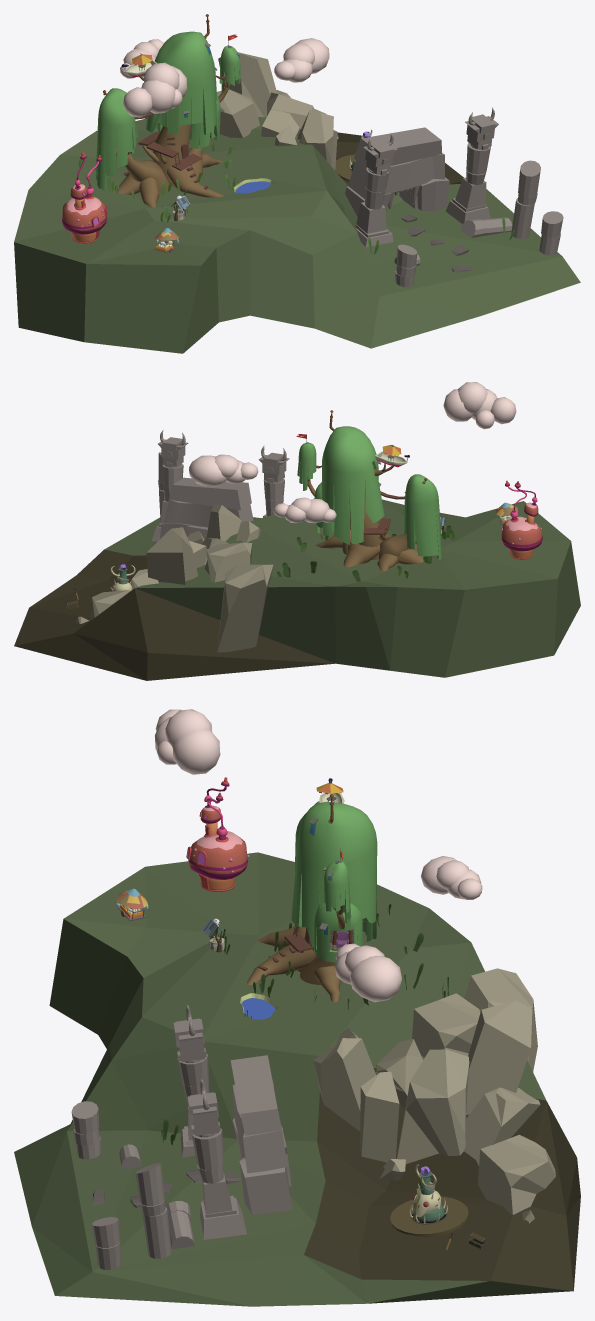
File: scenario.fbx
3 renders of one model, top to bottom at view 1: azimuth 30°, elevation 25°; view 2: azimuth 150°, elevation 25°; view 3: azimuth 270°, elevation 25°, orthographic. The views are drawn at different scales.
Visible parts, largest first — view 1: Plane.004, Cube, Cube.002, Cube.008, Icosphere.003, CANDY_H, plants, Cube.011, idol; view 2: Plane.004, Cube.002, Cube.008, Cube, Icosphere.003, CANDY_H, plants, idol; view 3: Plane.004, Cube.008, Cube, Cube.002, Icosphere.003, CANDY_H, idol, plants, Cylinder.002.
Part boxes in pixels (x1,y1,x2,y2): Plane.004: [14, 117, 580, 353]; Cube: [345, 107, 563, 287]; Cube.002: [95, 14, 240, 207]; Cube.008: [144, 52, 338, 170]; Icosphere.003: [120, 38, 329, 117]; CANDY_H: [62, 152, 107, 243]; plants: [78, 129, 514, 254]; Cube.011: [401, 215, 472, 272]; idol: [335, 129, 372, 181]; Plane.004: [14, 499, 580, 680]; Cube.002: [296, 410, 442, 571]; Cube.008: [76, 505, 273, 652]; Cube: [151, 430, 314, 541]; Icosphere.003: [189, 382, 516, 523]; CANDY_H: [500, 480, 542, 559]; plants: [277, 525, 455, 581]; idol: [110, 564, 135, 591]; Plane.004: [14, 852, 580, 1306]; Cube.008: [313, 968, 555, 1223]; Cube: [71, 1005, 292, 1269]; Cube.002: [247, 778, 377, 1002]; Icosphere.003: [155, 709, 482, 1002]; CANDY_H: [186, 777, 249, 891]; idol: [390, 1164, 468, 1236]; plants: [161, 904, 448, 1144]; Cylinder.002: [116, 888, 148, 920].
Size of the model in its own units: 7035 by 3606 by 5262.
